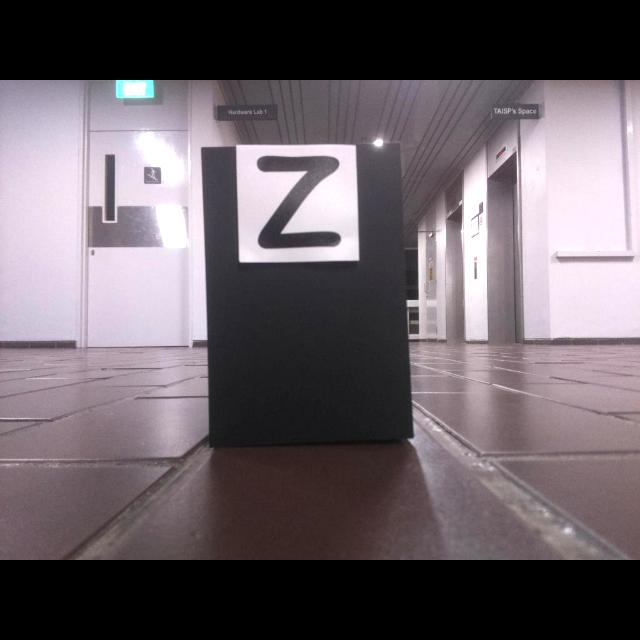Z: (258, 156, 341, 248)
